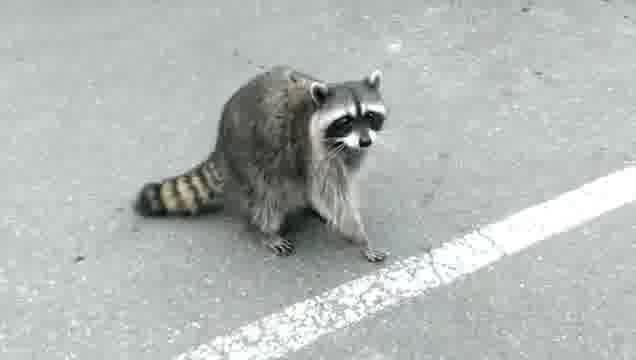raccoon: (135, 65, 393, 263)
